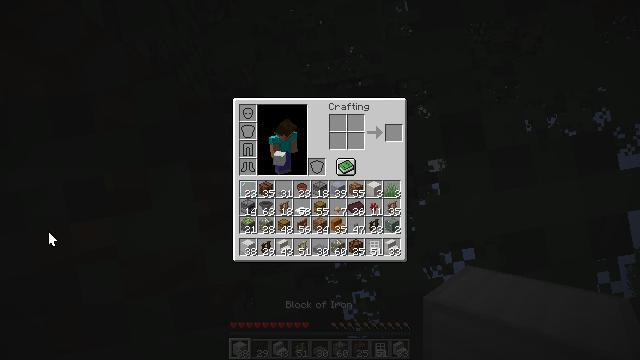cursor: (48, 231, 58, 247)
